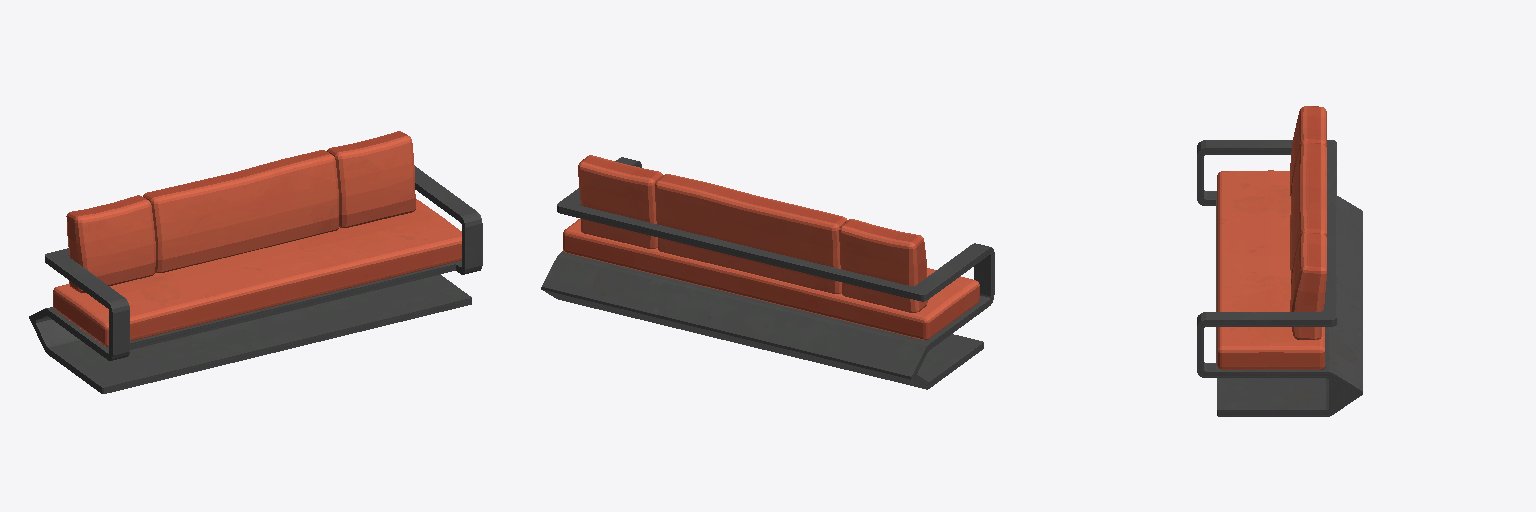
3 renders of one model, left to right at view 1: azimuth 30°, elevation 25°; view 2: azimuth 150°, elevation 25°; view 3: azimuth 270°, elevation 25°, orthographic.
Parts seen in each view (by area): view 1: SofaPillows_SofaPillowsBase, SofaBase_SofaBaseMesh; view 2: SofaPillows_SofaPillowsBase, SofaBase_SofaBaseMesh; view 3: SofaPillows_SofaPillowsBase, SofaBase_SofaBaseMesh.
Part boxes in pixels (x1,y1,x2,y2): SofaPillows_SofaPillowsBase: (53,131,461,346); SofaBase_SofaBaseMesh: (29,166,482,393); SofaPillows_SofaPillowsBase: (563,155,979,339); SofaBase_SofaBaseMesh: (541,157,994,389); SofaPillows_SofaPillowsBase: (1217,106,1326,369); SofaBase_SofaBaseMesh: (1197,140,1362,416).
Bounding box in the file's own units: 3.17 × 1.15 × 1.24.
2 materials, 1 textured.